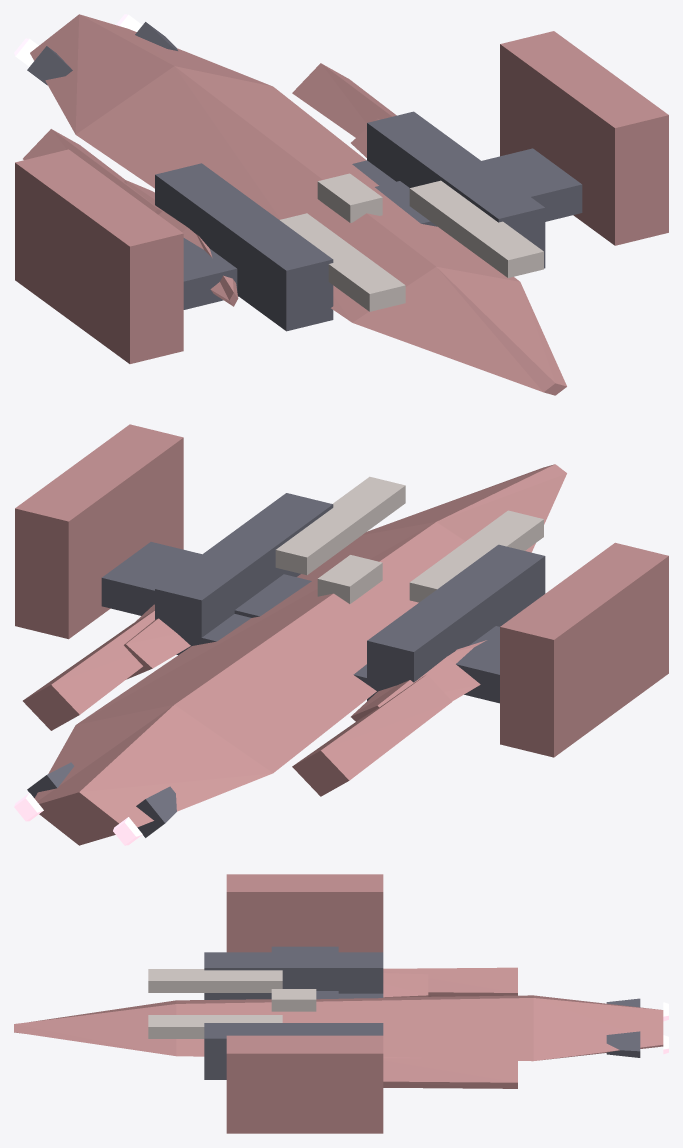
3 renders of one model, top to bottom at view 1: azimuth 30°, elevation 25°; view 2: azimuth 150°, elevation 25°; view 3: azimuth 270°, elevation 25°, orthographic. The views are drawn at different scales.
Bounding box in the file's own units: 6.9 × 1.7 × 10.65.
